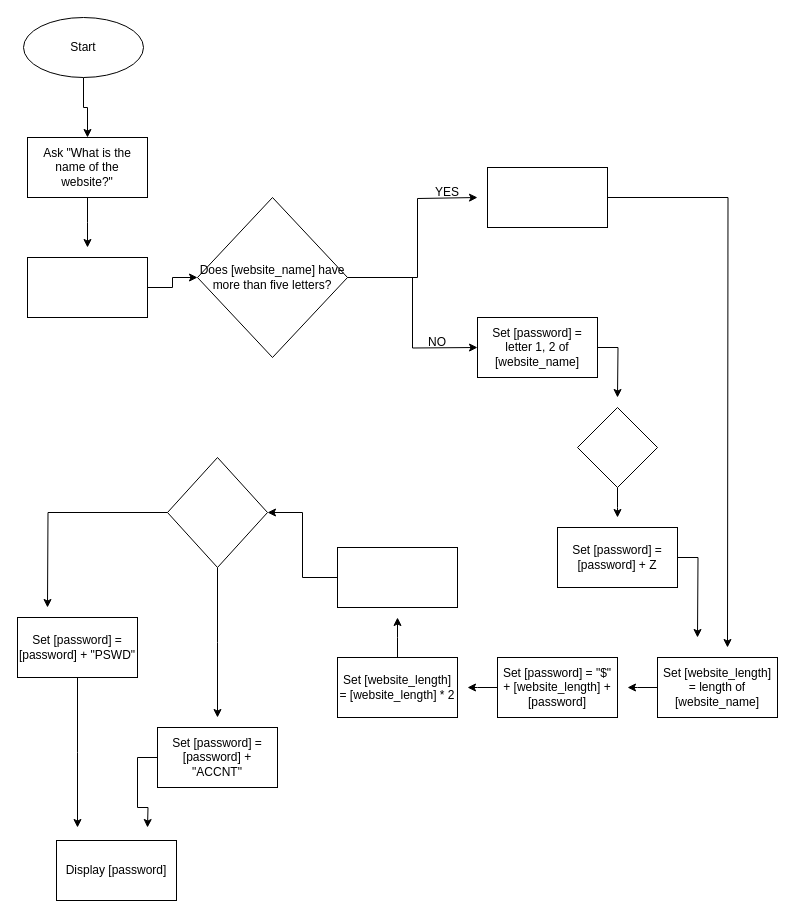
Some shapes in this 795 by 918 pixel diagram are drawn without their labels. The box of each missing label's shape, as (x1, y1, x2, y2) in pixels:
Does [website_name] contain "o"?: (166, 456, 268, 568)
Repeat 2 times: (576, 406, 658, 488)
Set [ANSWER] = [website_name]: (26, 256, 148, 318)
Set [password] = [password] + [website_length]: (336, 546, 458, 608)
Set [password] = letter 1, 2, 3, 4 of [website_name]: (486, 166, 608, 228)
